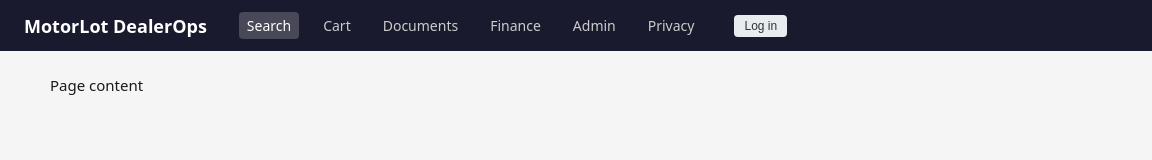
Test case: Layout — unauthenticated state › shows login error message when login() rejects
Step 1. Click the button "Log in" → {"x": 761, "y": 26}, box [734,15,787,37]
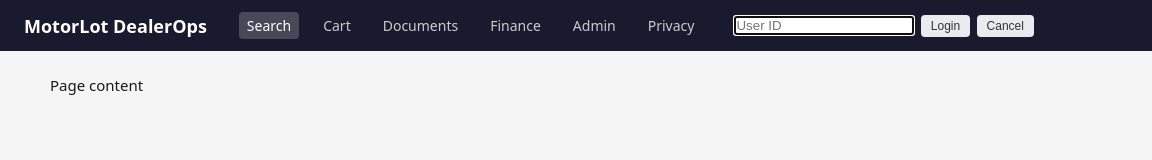
Step 2. Type "badid" into the field with placeholder "User ID" → {"x": 824, "y": 26}, box [734,16,914,35]
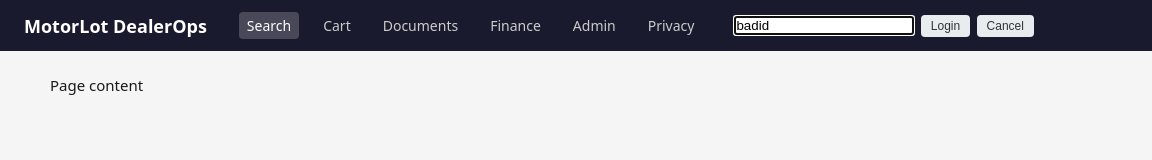
Step 3. Click the button "Login" → {"x": 946, "y": 26}, box [921,14,970,36]
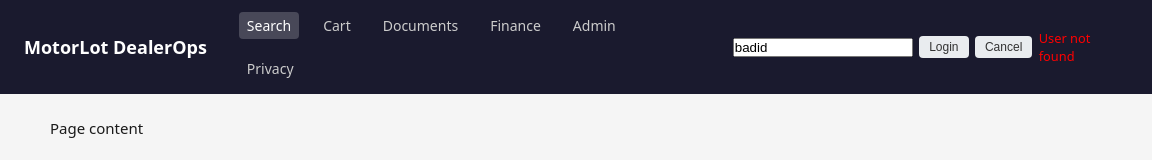
Expected: the text "User not found" is shown, [1039,29,1090,65]
